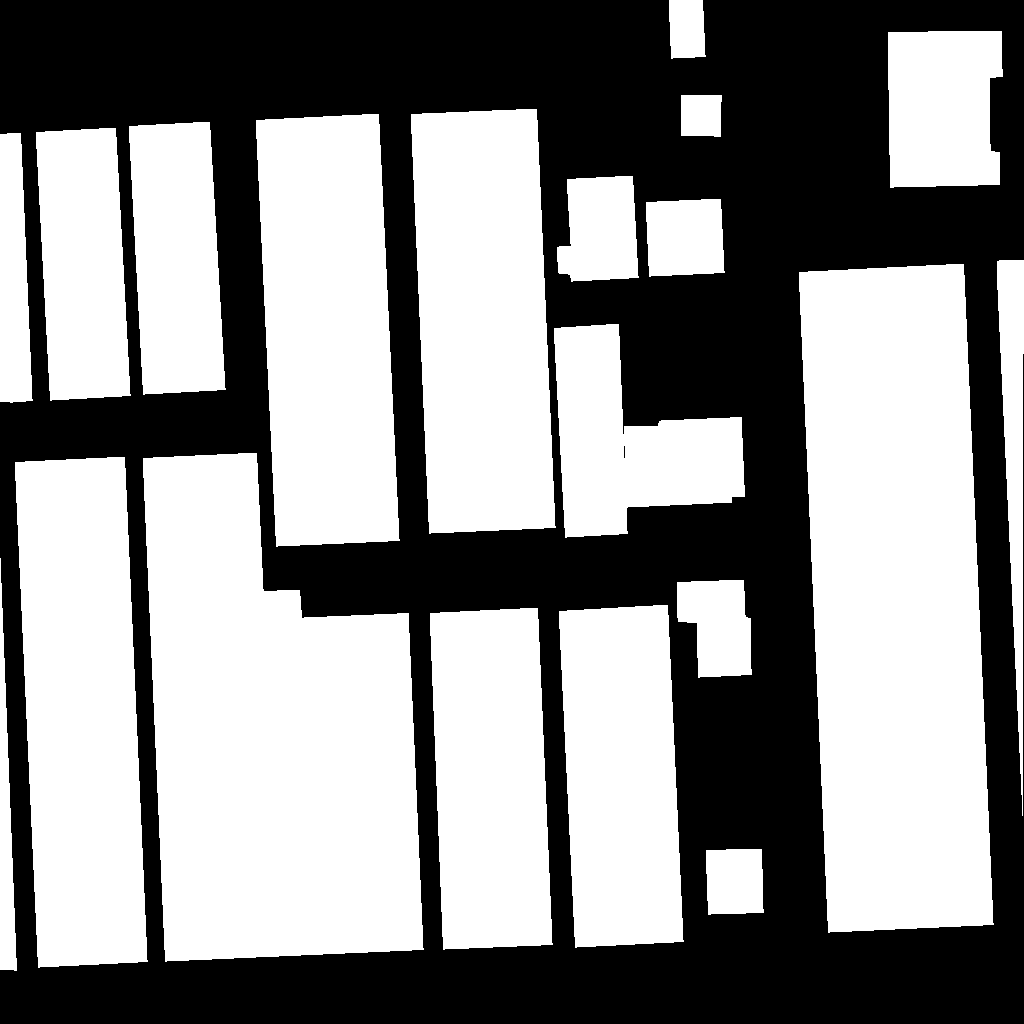building: (143, 453, 424, 962), (799, 264, 994, 933), (15, 457, 148, 968), (256, 114, 400, 547), (411, 109, 556, 534), (559, 605, 684, 948), (430, 608, 553, 950), (129, 122, 226, 395), (36, 128, 131, 401), (888, 31, 1003, 188), (554, 324, 628, 538), (997, 260, 1024, 827), (624, 417, 746, 508), (0, 133, 33, 403), (557, 176, 639, 282), (0, 546, 18, 971), (677, 580, 752, 678), (646, 199, 725, 277), (706, 849, 764, 915), (669, 0, 706, 59), (681, 95, 722, 137)
